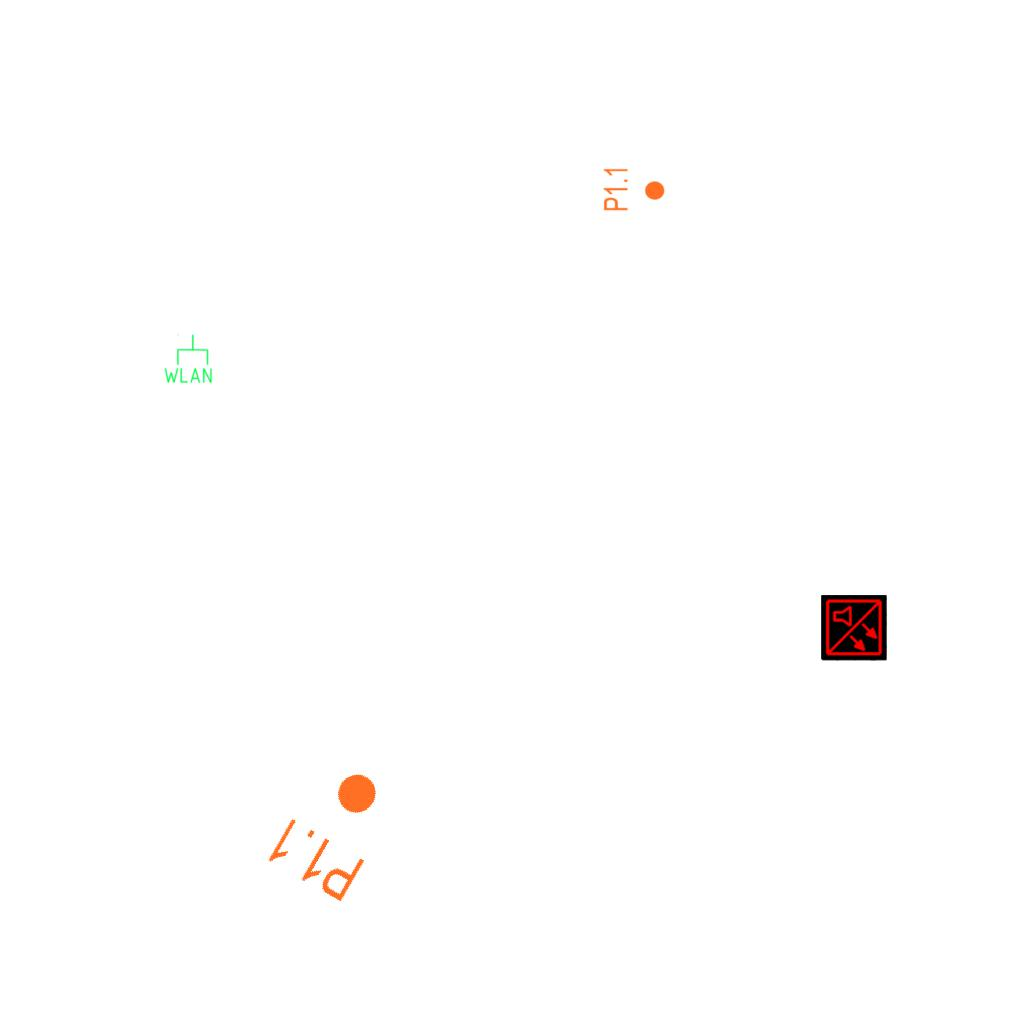Downlight_LED_Einbauleuchten_Flur: (261, 749, 406, 907), (602, 166, 666, 212)
OKW_Multisensormelder_(Kombination_optischer_Rauch-Kahlenmonoxid_Waerme-Melder): (821, 595, 887, 661)
WLAN: (162, 333, 214, 385)
